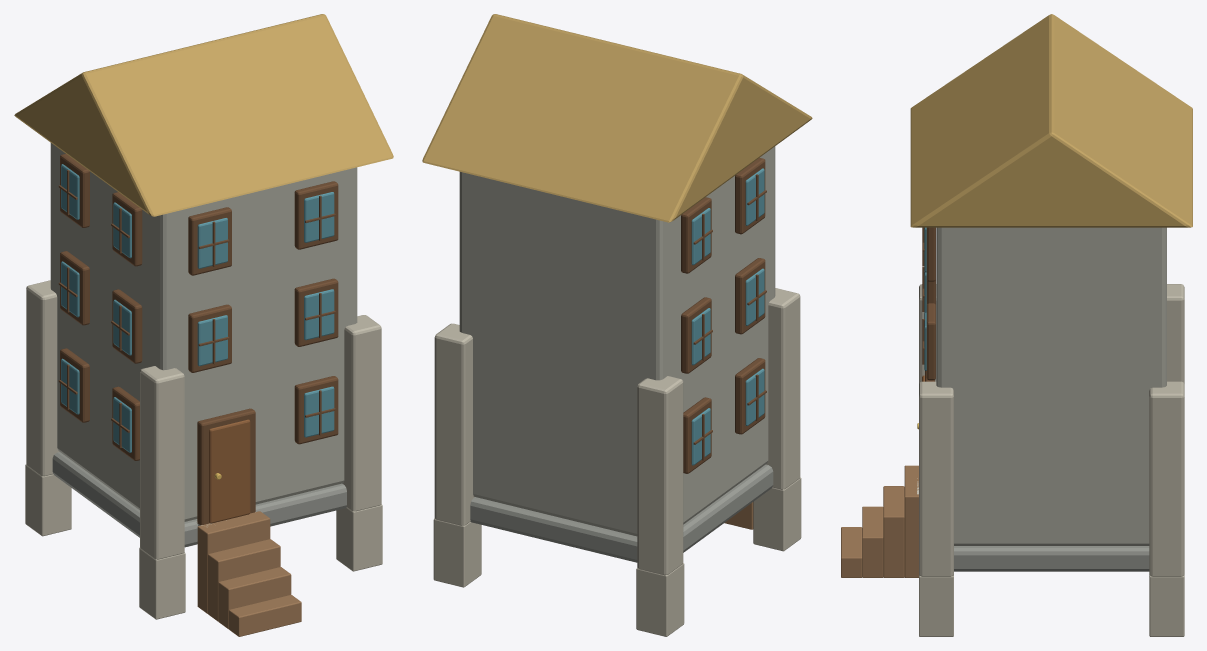
The model's file is wetland-tower-0.glb.
3 renders of one model, left to right at view 1: azimuth 30°, elevation 25°; view 2: azimuth 150°, elevation 25°; view 3: azimuth 270°, elevation 25°, orthographic. The views are drawn at different scales.
Parts seen in each view (by area): view 1: Fieldstone, Golden thatch, Warm civic stone, Dark beams, Blue glass, Aged oak, Foundation stone, Door oak; view 2: Fieldstone, Golden thatch, Warm civic stone, Dark beams, Foundation stone, Blue glass; view 3: Fieldstone, Golden thatch, Warm civic stone, Aged oak, Foundation stone, Dark beams.
Boxes of the visible parts, x1,y1,x2,y2 form: Fieldstone: (50,143,357,521); Golden thatch: (14,14,393,216); Warm civic stone: (25,280,382,619); Dark beams: (58,153,338,524); Blue glass: (61,164,334,452); Aged oak: (197,511,301,636); Foundation stone: (52,452,346,547); Door oak: (209,419,250,523); Fieldstone: (459,146,775,536); Golden thatch: (422,14,812,222); Warm civic stone: (433,288,801,636); Dark beams: (681,157,766,473); Foundation stone: (470,464,773,562); Blue glass: (691,168,764,465); Fieldstone: (936,227,1166,545); Golden thatch: (910,14,1192,227); Warm civic stone: (919,284,1184,636); Aged oak: (841,465,918,577); Foundation stone: (954,546,1149,571); Dark beams: (922,227,935,381).
Size of the model in its own units: 3.1 by 6.08 by 3.82.
